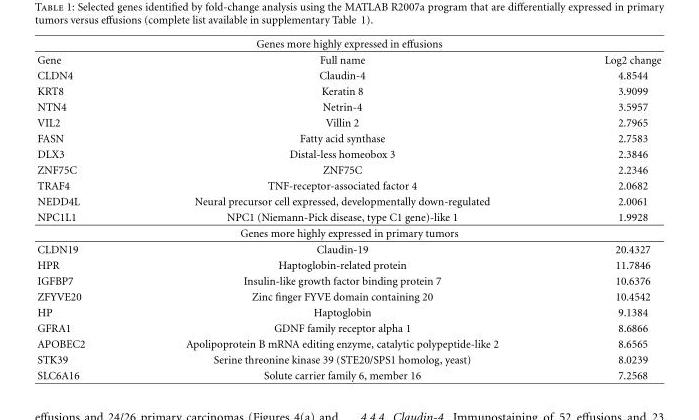table: (36, 37, 660, 380)
table column: (134, 37, 550, 380), (550, 37, 660, 380), (36, 37, 134, 380)
table column header: (36, 37, 660, 67)
table projected row header: (36, 224, 660, 241)
table row: (36, 224, 660, 241), (36, 51, 660, 67), (36, 67, 660, 83), (36, 98, 660, 114), (36, 114, 660, 130), (36, 145, 660, 161), (36, 161, 660, 177), (36, 177, 660, 193), (36, 208, 660, 224), (36, 241, 660, 257), (36, 272, 660, 288), (36, 288, 660, 304), (36, 319, 660, 335), (36, 335, 660, 351), (36, 351, 660, 367), (36, 83, 660, 98), (36, 130, 660, 145), (36, 193, 660, 208), (36, 257, 660, 272), (36, 304, 660, 319), (36, 37, 660, 51), (36, 367, 660, 380)
table spanning cell: (36, 37, 660, 51)
